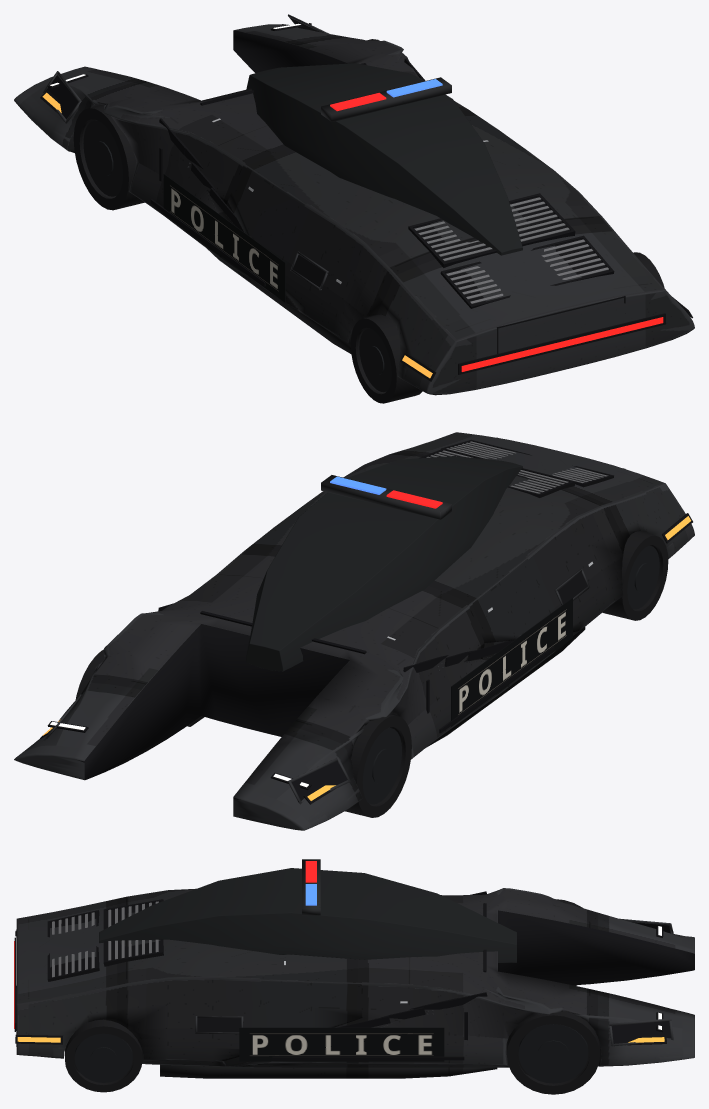
The model's file is spinner-high.glb.
The picture shows the model from 3 angles, top to bottom: view 1: azimuth 30°, elevation 25°; view 2: azimuth 150°, elevation 25°; view 3: azimuth 270°, elevation 25°; orthographic projection. The views are drawn at different scales.
Parts seen in each view (by area): view 1: body, glass, recess, rubber, livery, fin, drum, light-red; view 2: body, glass, recess, rubber, livery, drum, fin; view 3: body, glass, recess, livery, drum, rubber, fin, light-amber.
Boxes of the visible parts, x1,y1,x2,y2 form: body: (14,14,694,395); glass: (246,63,522,255); recess: (40,18,692,381); rubber: (73,39,664,403); livery: (163,174,285,302); fin: (414,197,608,303); drum: (83,120,391,392); light-red: (461,317,663,371); body: (14,432,694,830); glass: (246,456,522,671); recess: (40,437,692,804); rubber: (75,531,668,817); livery: (451,597,572,726); drum: (362,545,659,804); fin: (426,441,608,493); body: (16,859,694,1078); glass: (99,868,516,962); recess: (14,891,670,1060); livery: (239,1027,444,1061); drum: (74,1024,588,1083); rubber: (65,899,599,1094); fin: (52,901,158,977); light-amber: (17,1037,664,1042).
Size of the model in its own units: 2.32 by 1.36 by 5.45.
Materials: 14 (2 with a texture image).
